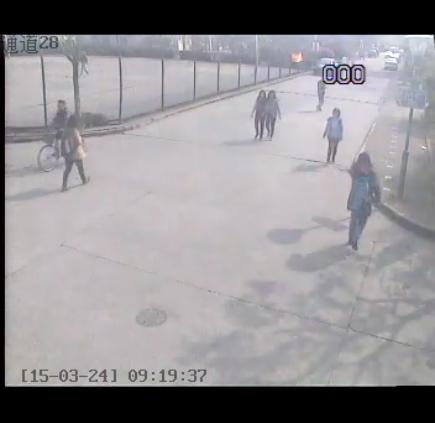person: (345, 149, 384, 251), (59, 112, 92, 191), (319, 104, 346, 166), (262, 89, 284, 142), (249, 87, 265, 143), (312, 77, 328, 114)
